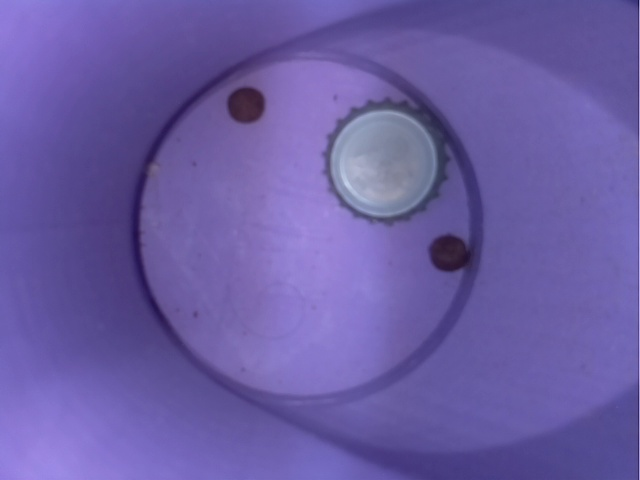capsule: (312, 91, 453, 227)
croquette: (216, 77, 276, 129), (421, 228, 471, 276)
